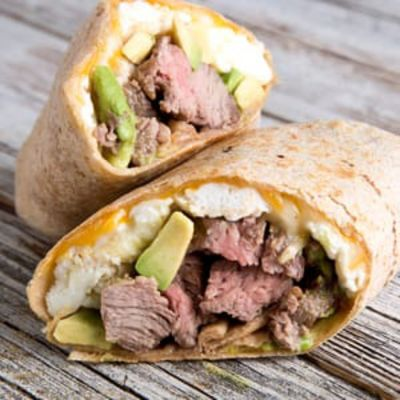soup: (17, 0, 280, 239)
